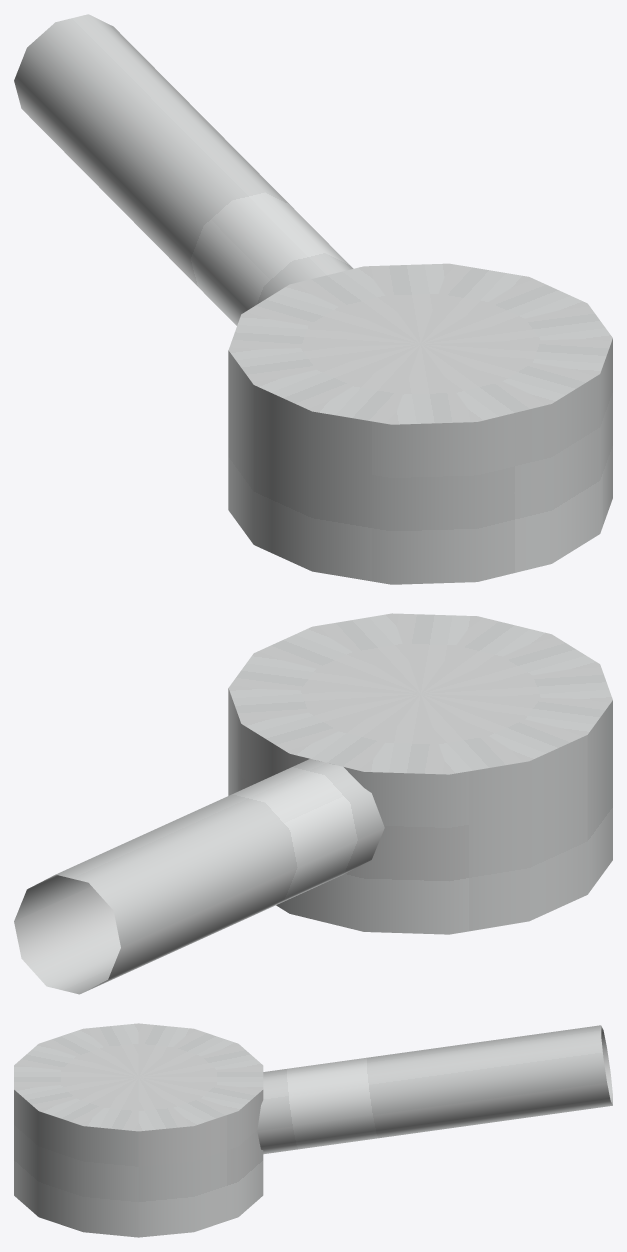
Rendered from trusssignalarm_level8_c1.obj.
3 views of the same model, one above another, from view 1: azimuth 30°, elevation 25°; view 2: azimuth 150°, elevation 25°; view 3: azimuth 270°, elevation 25° (orthographic). The views are drawn at different scales.
Parts seen in each view (by area): view 1: trusssignalarm_level8_c1; view 2: trusssignalarm_level8_c1; view 3: trusssignalarm_level8_c1.
Boxes of the visible parts, x1=… form: trusssignalarm_level8_c1: x1=14, y1=14, x2=612, y2=584; trusssignalarm_level8_c1: x1=14, y1=613, x2=612, y2=994; trusssignalarm_level8_c1: x1=14, y1=1023, x2=612, y2=1237.
Bounding box in the file's own units: 0.8188 × 0.5406 × 1.92.
